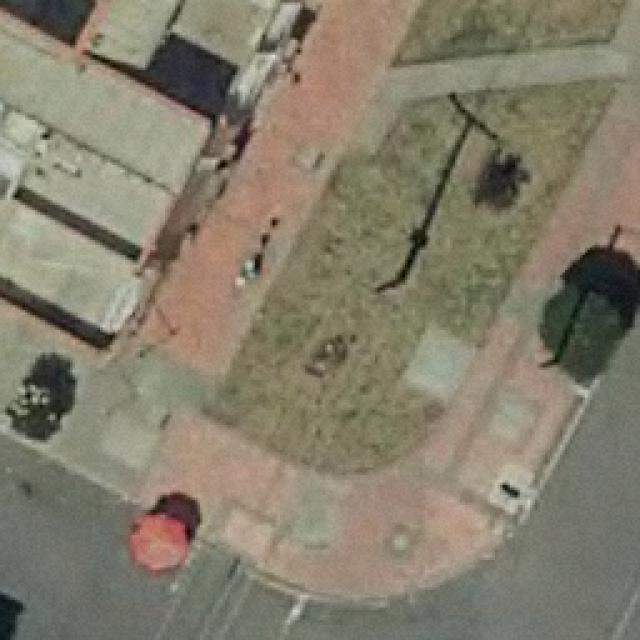vendedor_ambulante: (124, 507, 194, 575)
